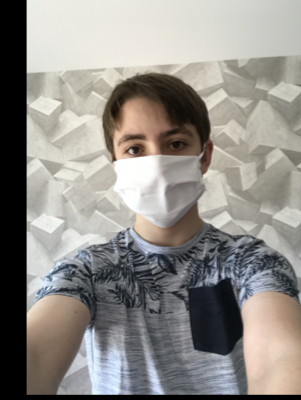with_mask: (112, 121, 205, 228)
